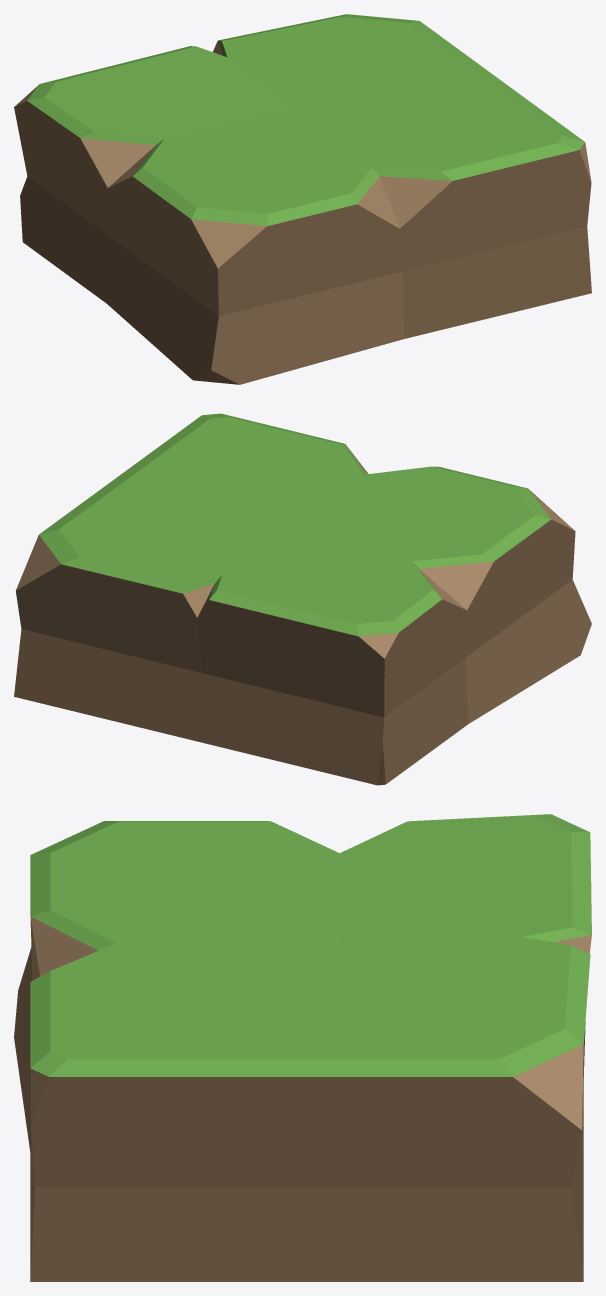
Rendered from TERRAIN_EXTENSION1.fbx.
3 renders of one model, top to bottom at view 1: azimuth 30°, elevation 25°; view 2: azimuth 150°, elevation 25°; view 3: azimuth 270°, elevation 25°, orthographic. The views are drawn at different scales.
Parts seen in each view (by area): view 1: Cube.155; view 2: Cube.155; view 3: Cube.155.
Part boxes in pixels (left/top/right/bottom): Cube.155: left=14, top=14, right=591, bottom=384; Cube.155: left=14, top=413, right=591, bottom=785; Cube.155: left=14, top=814, right=591, bottom=1281.
Size of the model in its own units: 2883 by 1096 by 2652.
